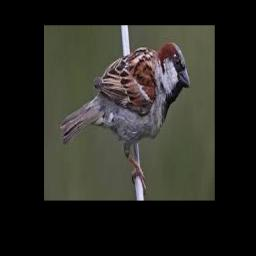Sparrow: (60, 41, 190, 192)
